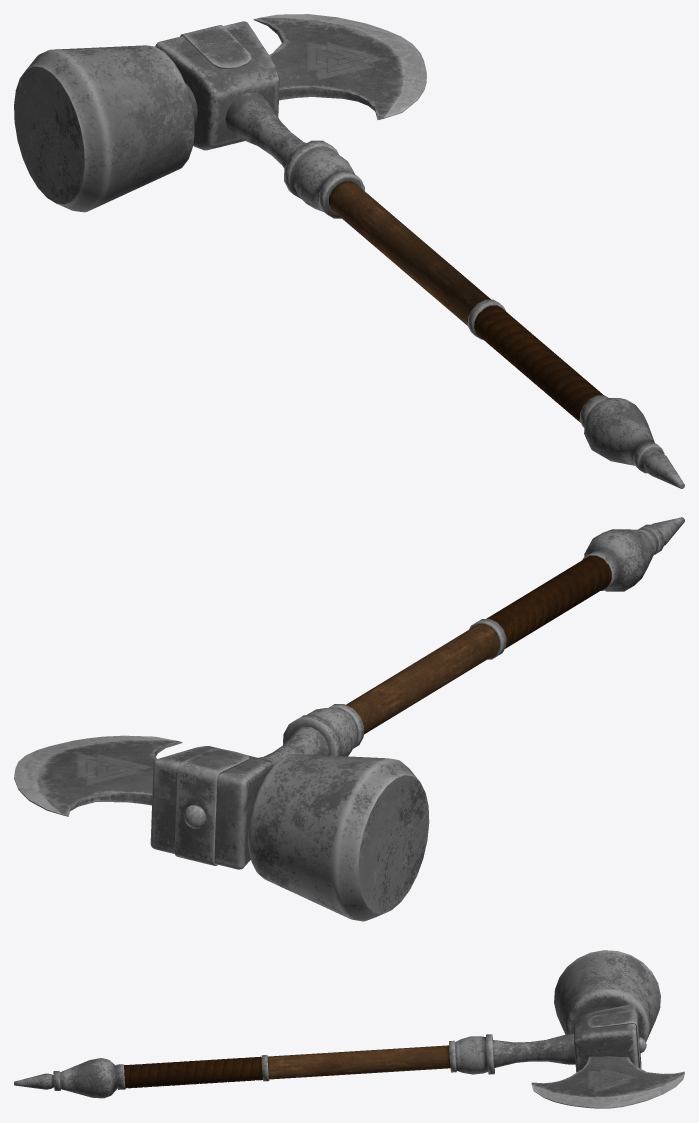
The model's file is PBR.obj.
The picture shows the model from 3 angles, top to bottom: view 1: azimuth 30°, elevation 25°; view 2: azimuth 150°, elevation 25°; view 3: azimuth 270°, elevation 25°; orthographic projection. The views are drawn at different scales.
Parts seen in each view (by area): view 1: VikingAxe; view 2: VikingAxe; view 3: VikingAxe.
Part boxes in pixels (left/top/right/bottom): VikingAxe: left=14, top=14, right=684, bottom=488; VikingAxe: left=14, top=517, right=684, bottom=921; VikingAxe: left=14, top=950, right=684, bottom=1108.
Bounding box in the file's own units: 0.5681 × 0.2246 × 1.4.
Materials: 1 (1 with a texture image).
